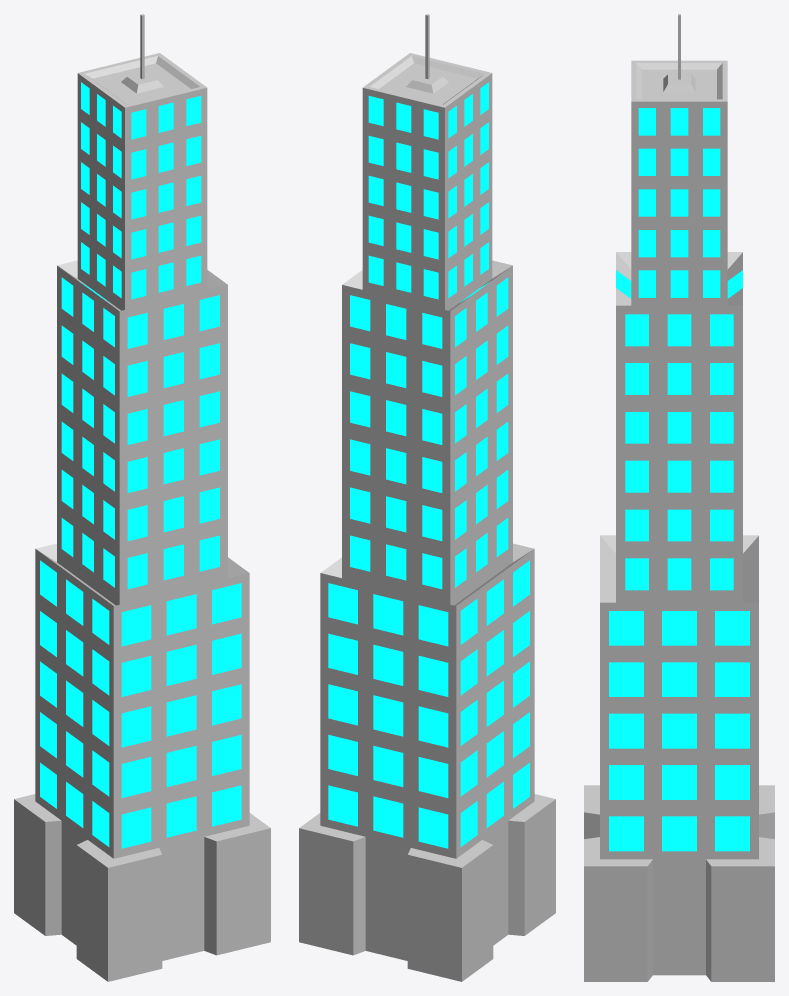
File: gameTowerTwo.fbx
3 views of the same model, side by side, from view 1: azimuth 30°, elevation 25°; view 2: azimuth 150°, elevation 25°; view 3: azimuth 270°, elevation 25° (orthographic).
Parts seen in each view (by area): view 1: Cube; view 2: Cube; view 3: Cube.
Boxes of the visible parts, x1,y1,x2,y2 form: Cube: (14, 14, 270, 981); Cube: (299, 14, 555, 981); Cube: (584, 14, 774, 981).
Bounding box in the file's own units: 619 × 619 × 3315.
